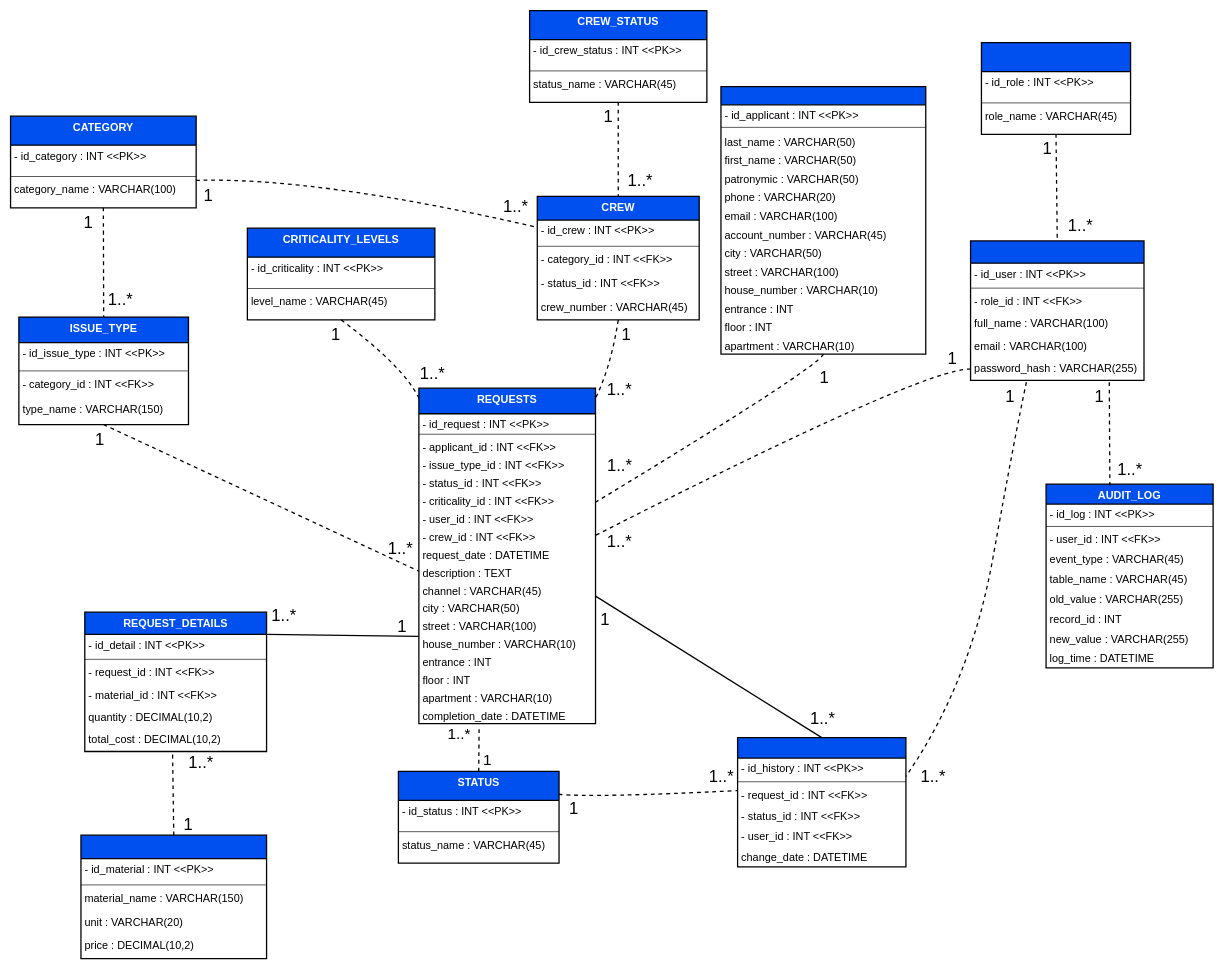
Some shapes in this 1224 by 969 pixel diagram are drawn without their labels. The shapes that lost their labels are listed below. From the top down, each one's box as (x1, y1, x2, y2) in pixels, then its label:
(980, 42, 1131, 135): ROLES
(720, 86, 926, 354): APPLICANTS
(970, 240, 1144, 381): USERS
(737, 737, 906, 867): STATUS_HISTORY
(80, 834, 267, 959): MATERIALS
